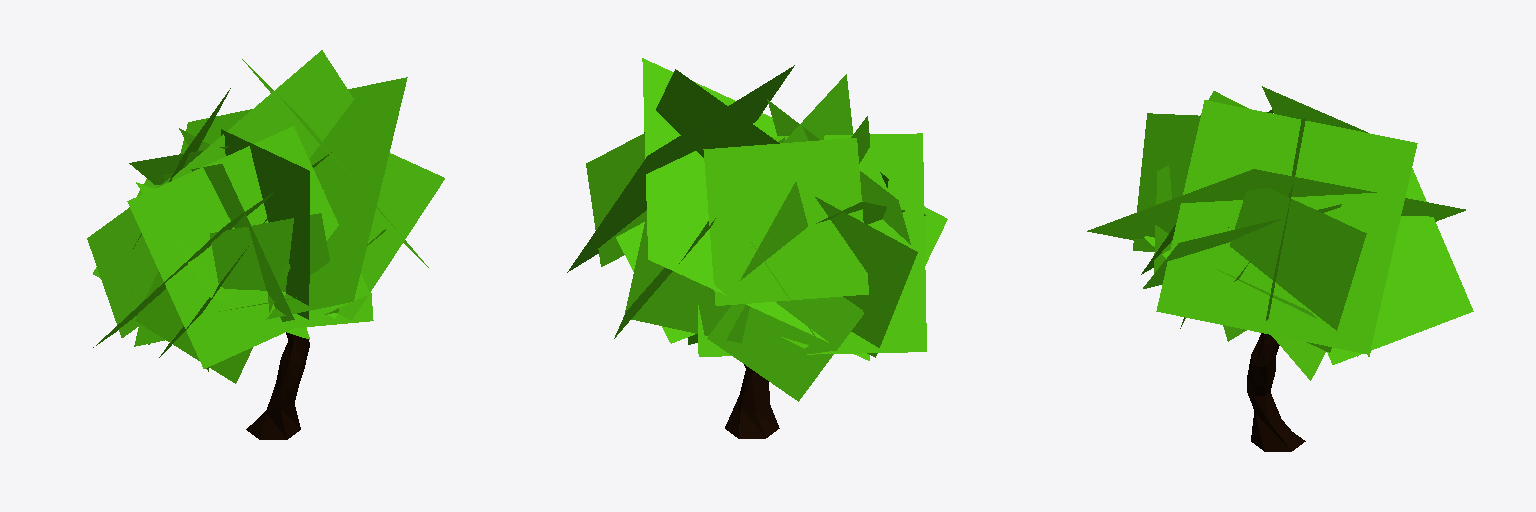
Rendered from Tree.obj.
The picture shows the model from 3 angles: view 1: azimuth 30°, elevation 25°; view 2: azimuth 150°, elevation 25°; view 3: azimuth 270°, elevation 25°; orthographic projection.
Parts seen in each view (by area): view 1: Tree_Circle; view 2: Tree_Circle; view 3: Tree_Circle.
Part boxes in pixels (x1,y1,x2,y2): Tree_Circle: (87, 50, 444, 439); Tree_Circle: (567, 58, 947, 438); Tree_Circle: (1087, 86, 1473, 451).
Bounding box in the file's own units: 17.13 × 17.98 × 17.83.